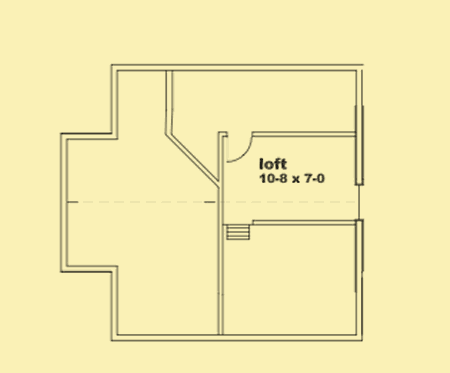door: (226, 131, 254, 167)
stairs: (224, 223, 254, 242)
